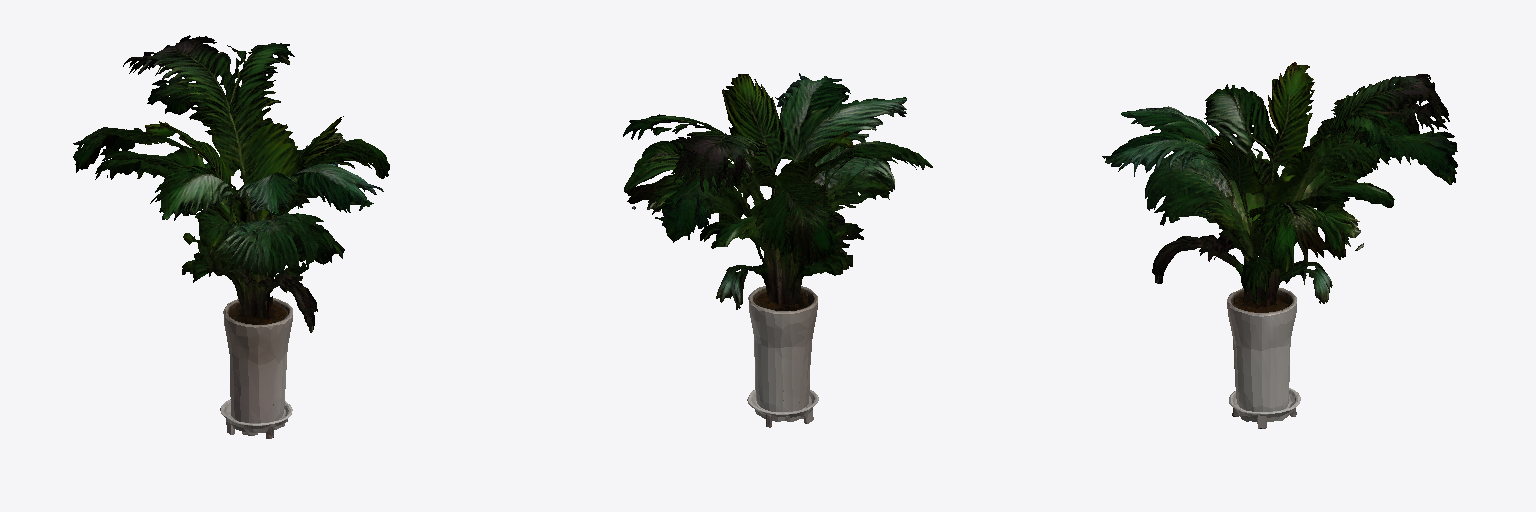
3 renders of one model, left to right at view 1: azimuth 30°, elevation 25°; view 2: azimuth 150°, elevation 25°; view 3: azimuth 270°, elevation 25°, orthographic.
Visible parts, largest first — view 1: geometry_0; view 2: geometry_0; view 3: geometry_0.
Part boxes in pixels (left/top/right/bottom): geometry_0: left=73, top=35, right=389, bottom=438; geometry_0: left=623, top=73, right=932, bottom=427; geometry_0: left=1102, top=62, right=1457, bottom=428.
Bounding box in the file's own units: 0.8321 × 0.9994 × 0.9882.
Materials: 1 (1 with a texture image).